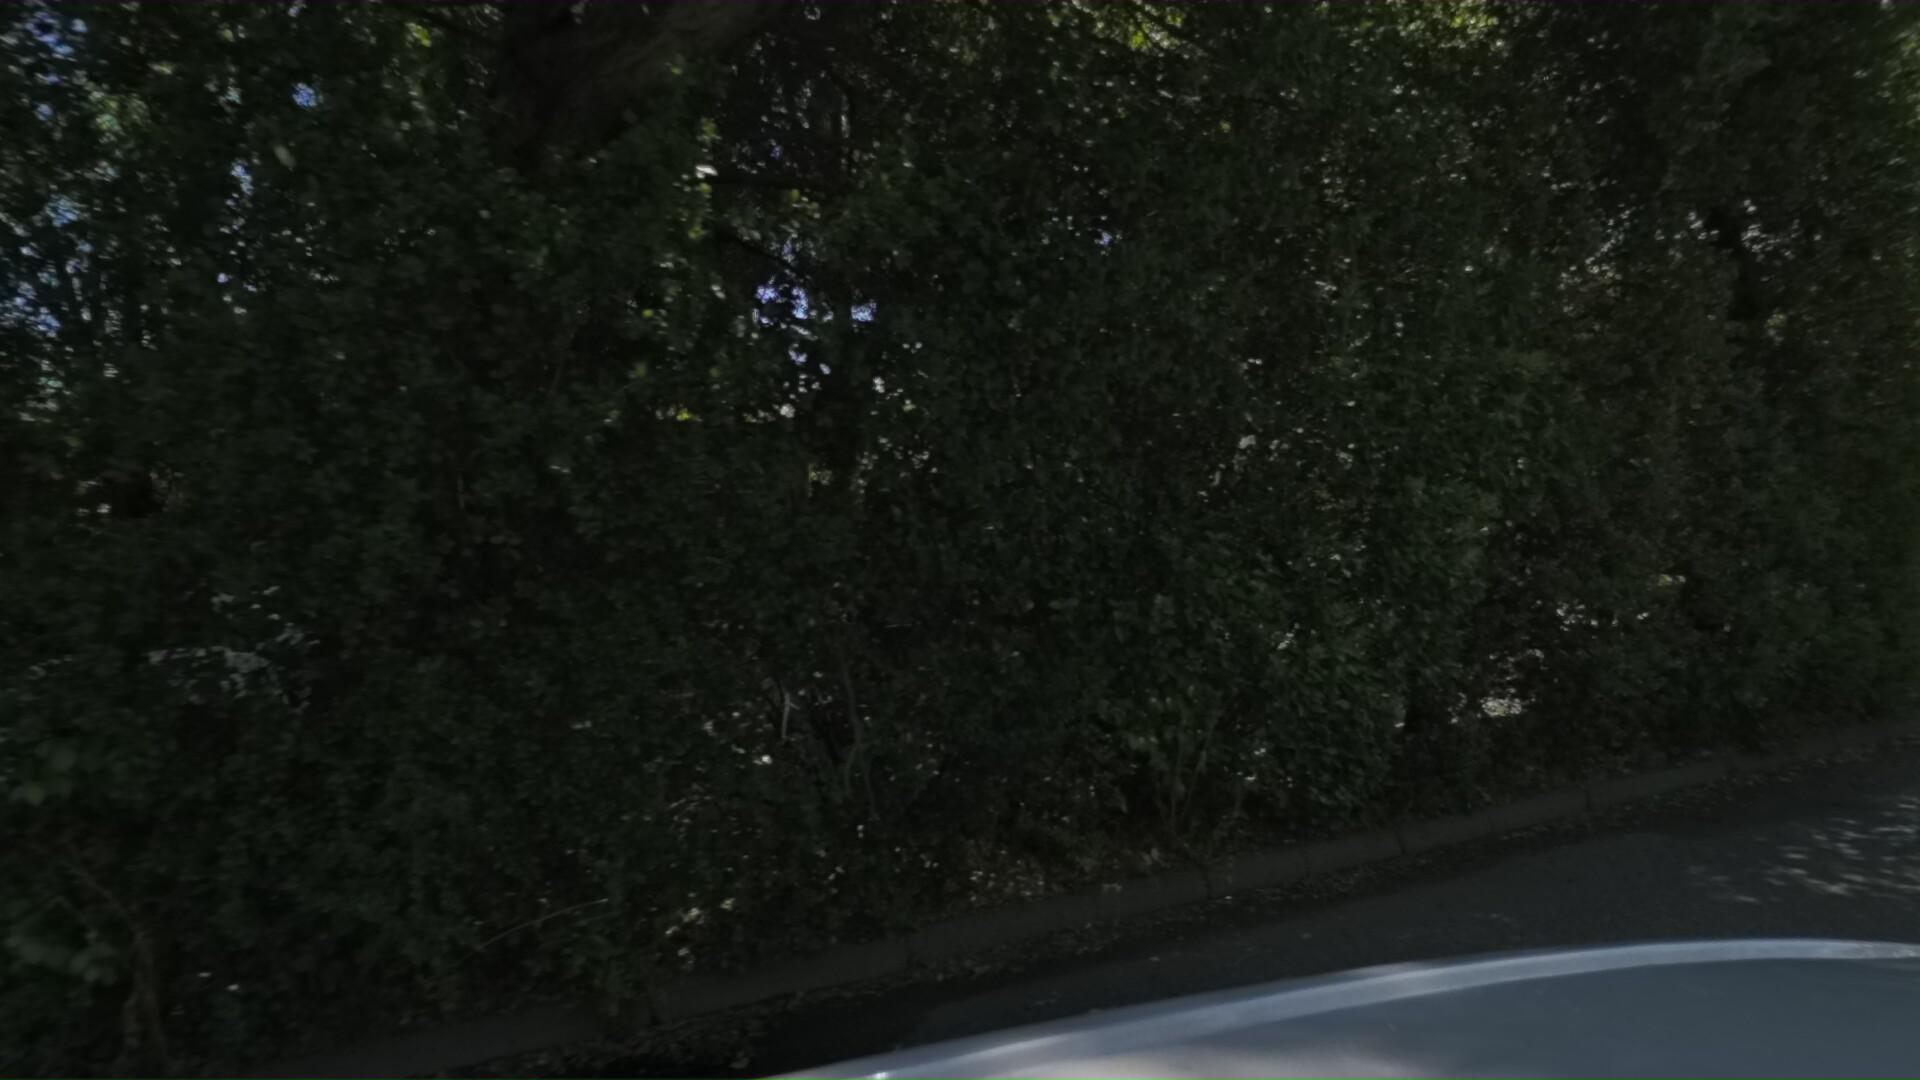car: (0, 533, 415, 953)
